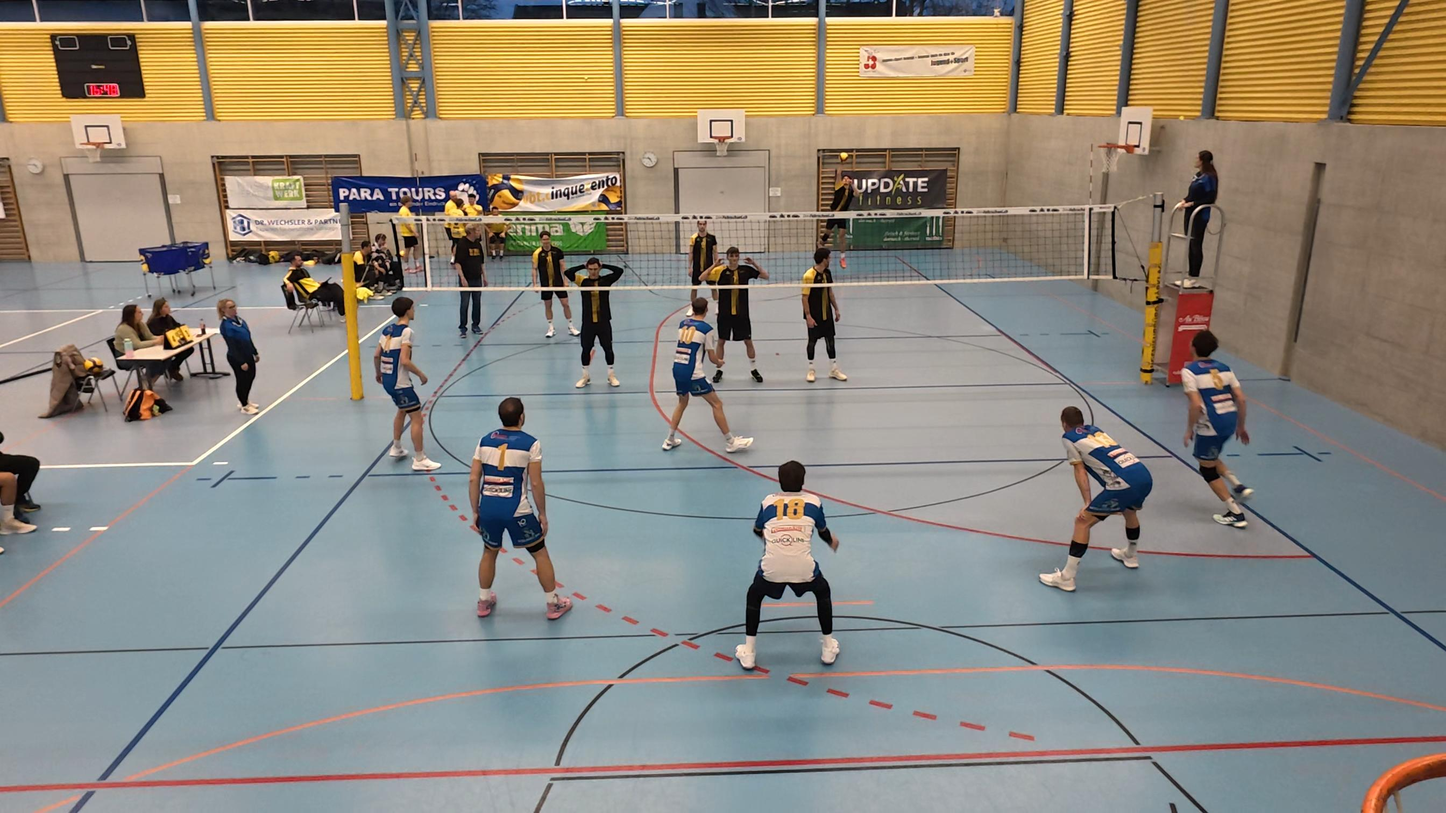battuta: (818, 159, 856, 275)
